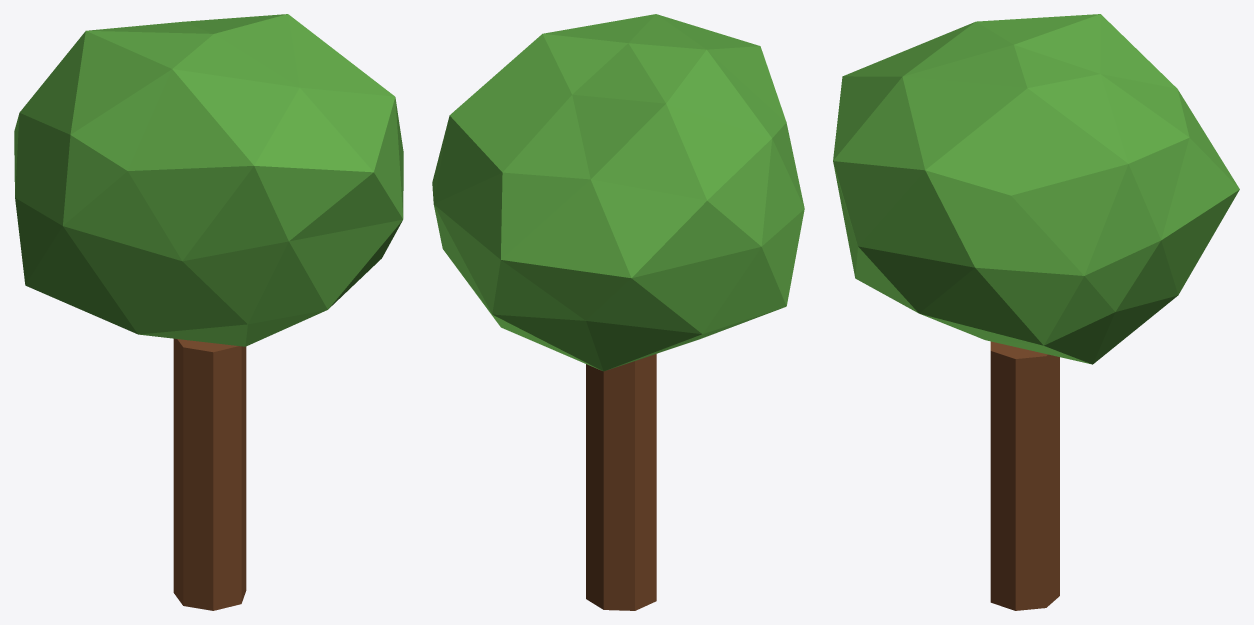
File: tree_round.glb
3 views of the same model, side by side, from view 1: azimuth 30°, elevation 25°; view 2: azimuth 150°, elevation 25°; view 3: azimuth 270°, elevation 25° (orthographic). The views are drawn at different scales.
Visible parts, largest first — view 1: Cylinder; view 2: Cylinder; view 3: Cylinder.
Part boxes in pixels (x1=…): Cylinder: x1=14, y1=14, x2=403, y2=610; Cylinder: x1=432, y1=14, x2=804, y2=610; Cylinder: x1=833, y1=14, x2=1239, y2=610.
Size of the model in its own units: 1.35 by 2.11 by 1.41.
